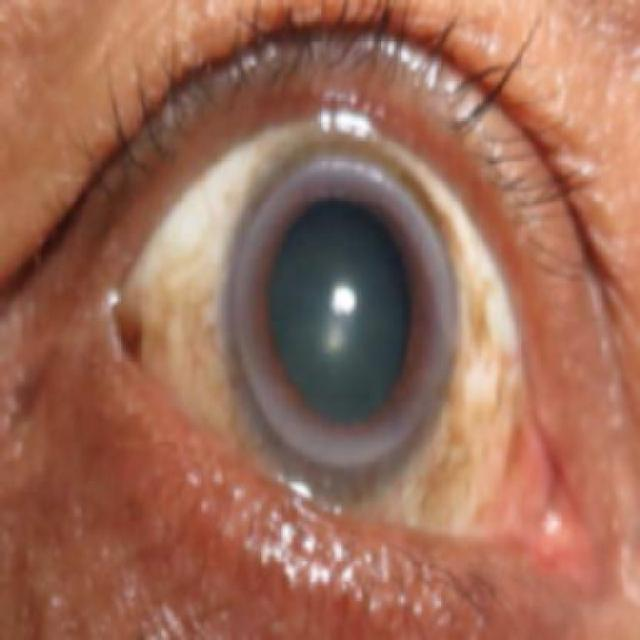Cataract: (225, 150, 460, 477)
